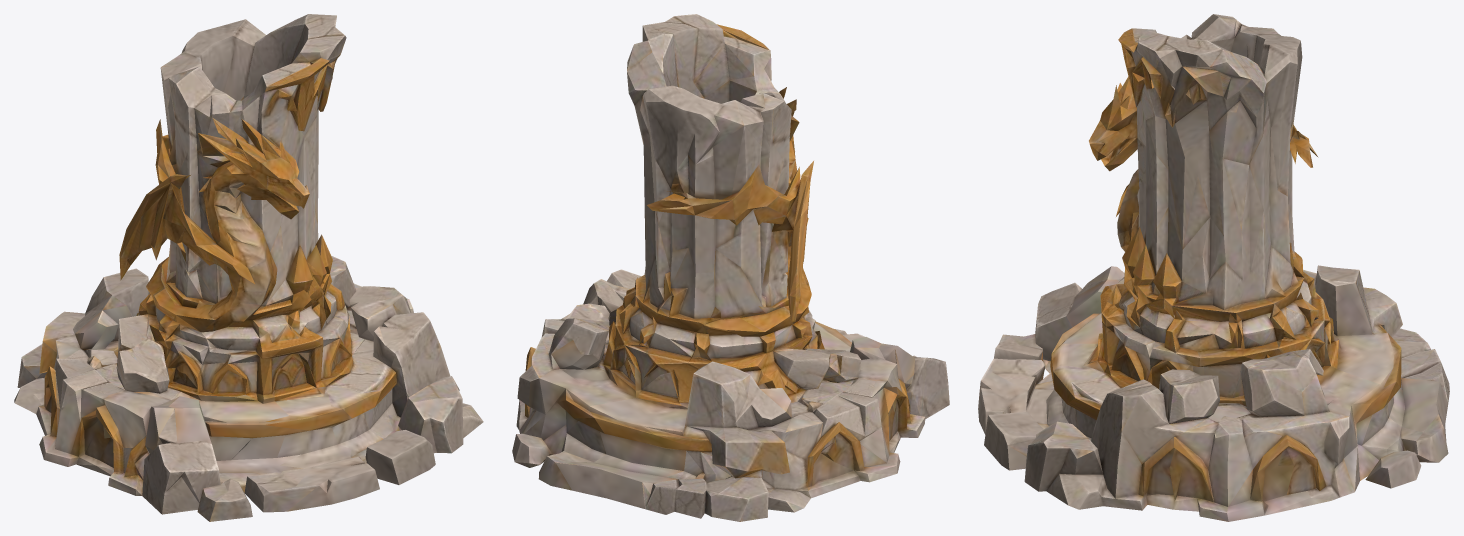
The model's file is pillar.glb.
The picture shows the model from 3 angles, left to right: view 1: azimuth 30°, elevation 25°; view 2: azimuth 150°, elevation 25°; view 3: azimuth 270°, elevation 25°; orthographic projection. The views are drawn at different scales.
Size of the model in its own units: 1.9 by 1.82 by 1.89.
Materials: 1 (1 with a texture image).
